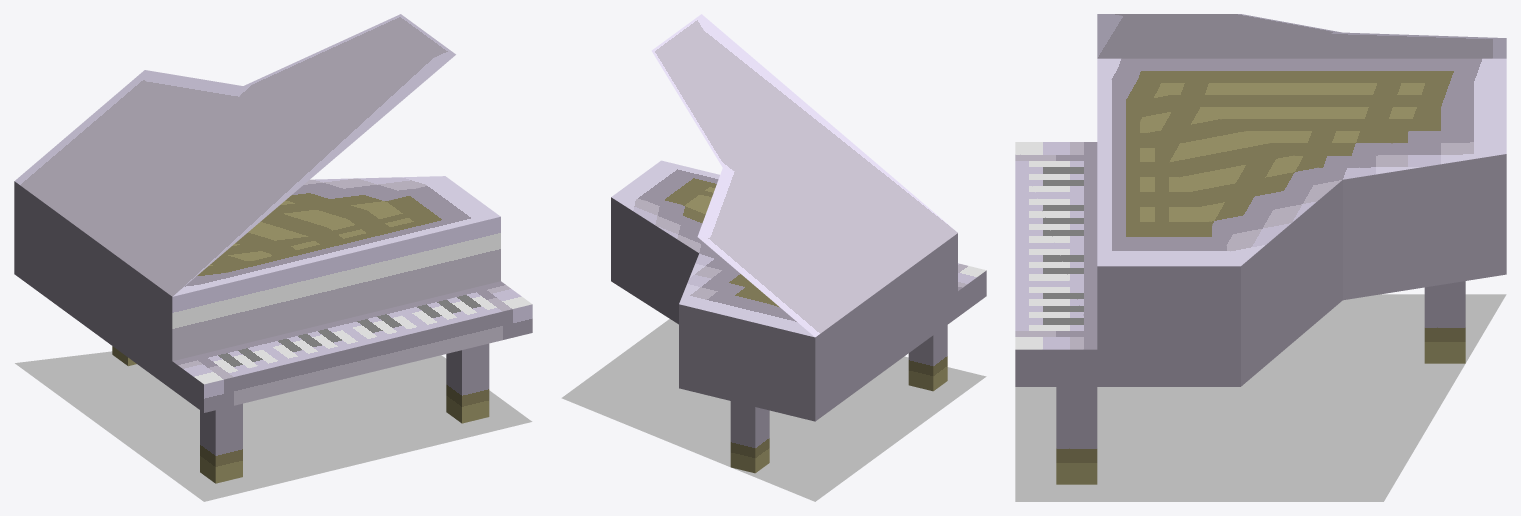
3 renders of one model, left to right at view 1: azimuth 30°, elevation 25°; view 2: azimuth 150°, elevation 25°; view 3: azimuth 270°, elevation 25°, orthographic. The views are drawn at different scales.
Parts seen in each view (by area): view 1: polygon1, polygon0; view 2: polygon1, polygon0; view 3: polygon1, polygon0.
Part boxes in pixels (x1,y1,x2,y2): polygon1: (14,14,532,483); polygon0: (15,351,532,501); polygon1: (611,14,986,473); polygon0: (561,319,986,501); polygon1: (1015,14,1506,484); polygon0: (1015,294,1506,501).
Bounding box in the file's own units: 5.02 × 5.18 × 5.02.
